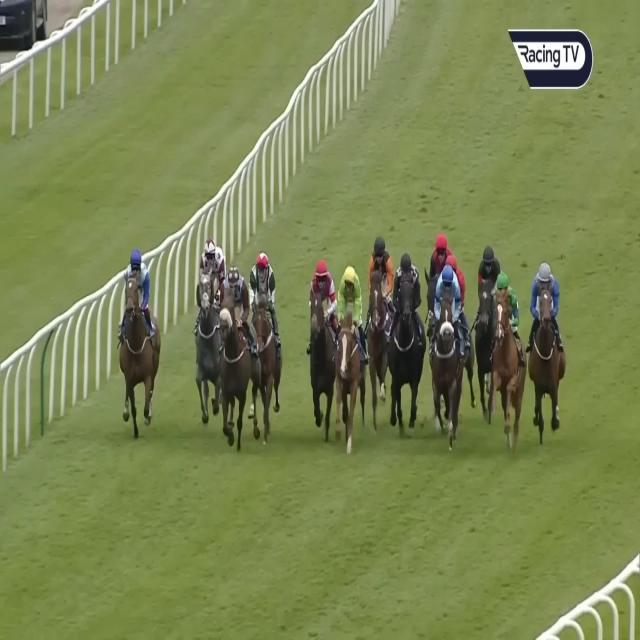horses-racing: (124, 247, 160, 452), (216, 254, 253, 442), (528, 256, 565, 438), (429, 259, 462, 436), (305, 248, 337, 424), (361, 236, 393, 406), (490, 272, 522, 440), (195, 227, 225, 406), (252, 250, 281, 418), (390, 254, 422, 406), (334, 260, 361, 437), (474, 235, 494, 404), (422, 230, 454, 328), (443, 252, 469, 318)
